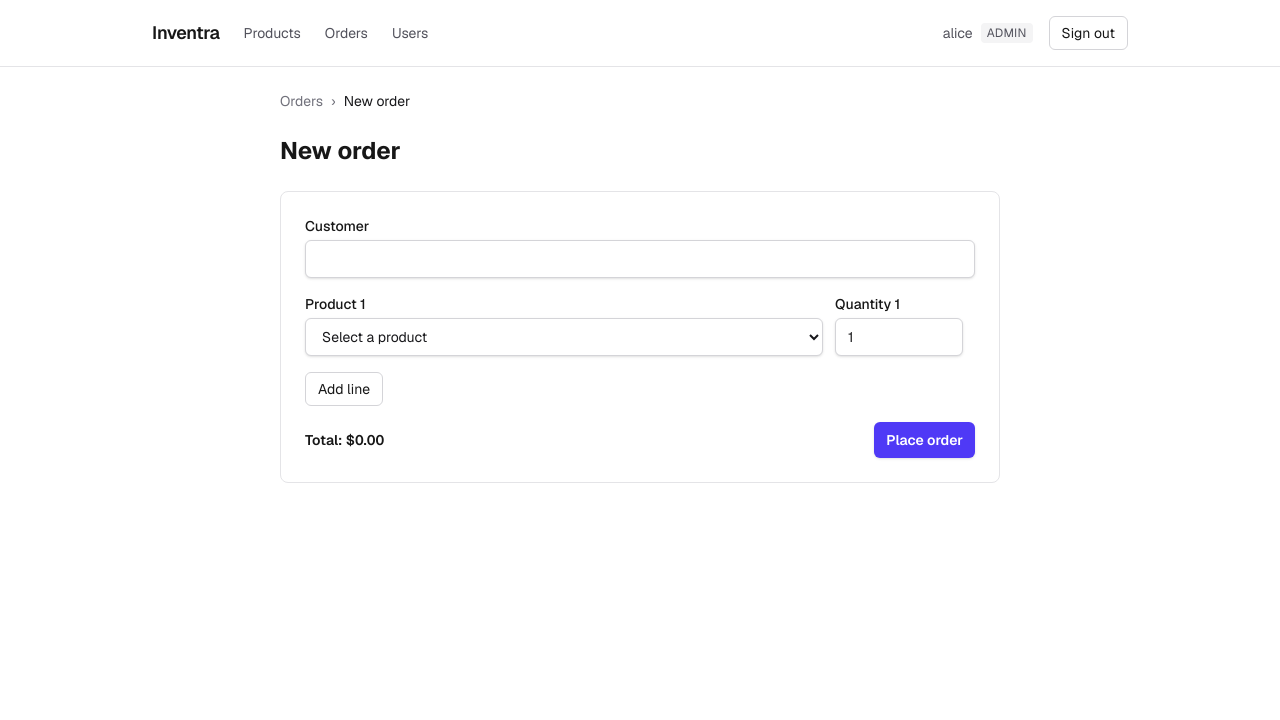
Scenario: NewOrderPage › reloads the stock when the order is refused for insufficient stock (#28)
Step 1. Type "ACME Corp" into the field labelled "Customer" → (640, 259), box [305,240,975,278]
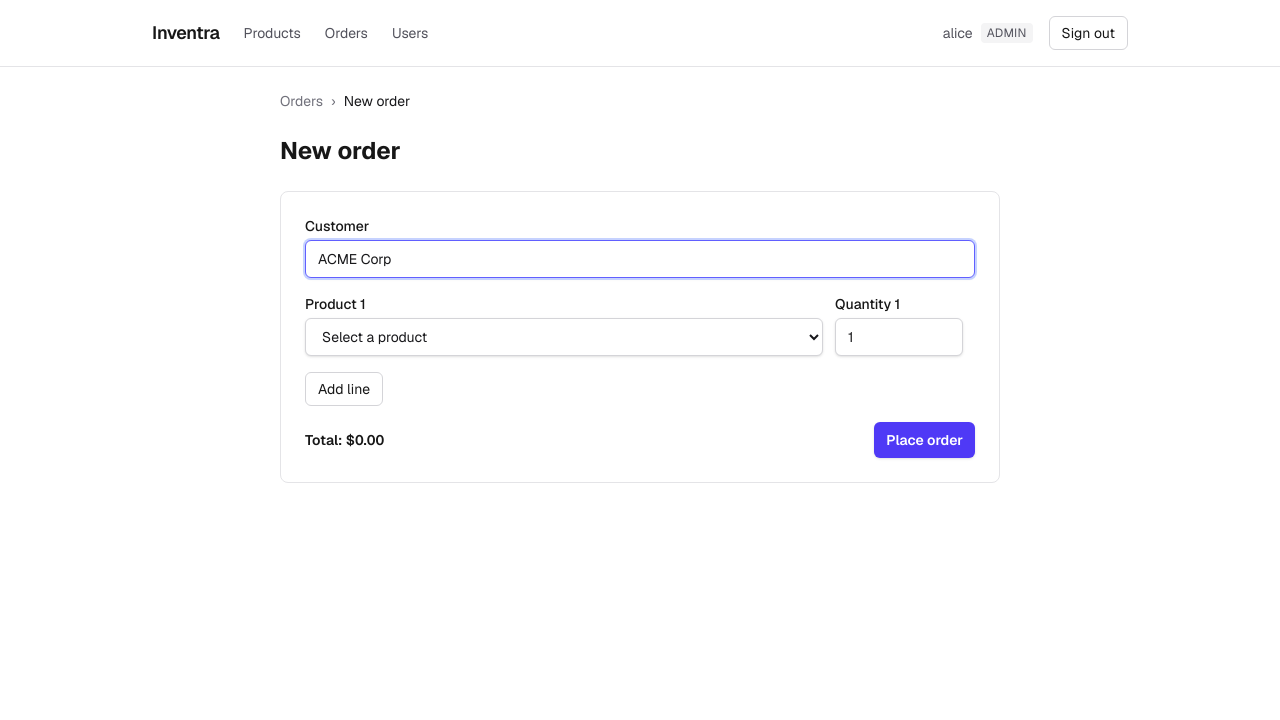
Step 2. Select "Keyboard (KB-001) · 10 in stock" in the dropdown labelled "Product 1" → (564, 337), box [305,318,823,356]
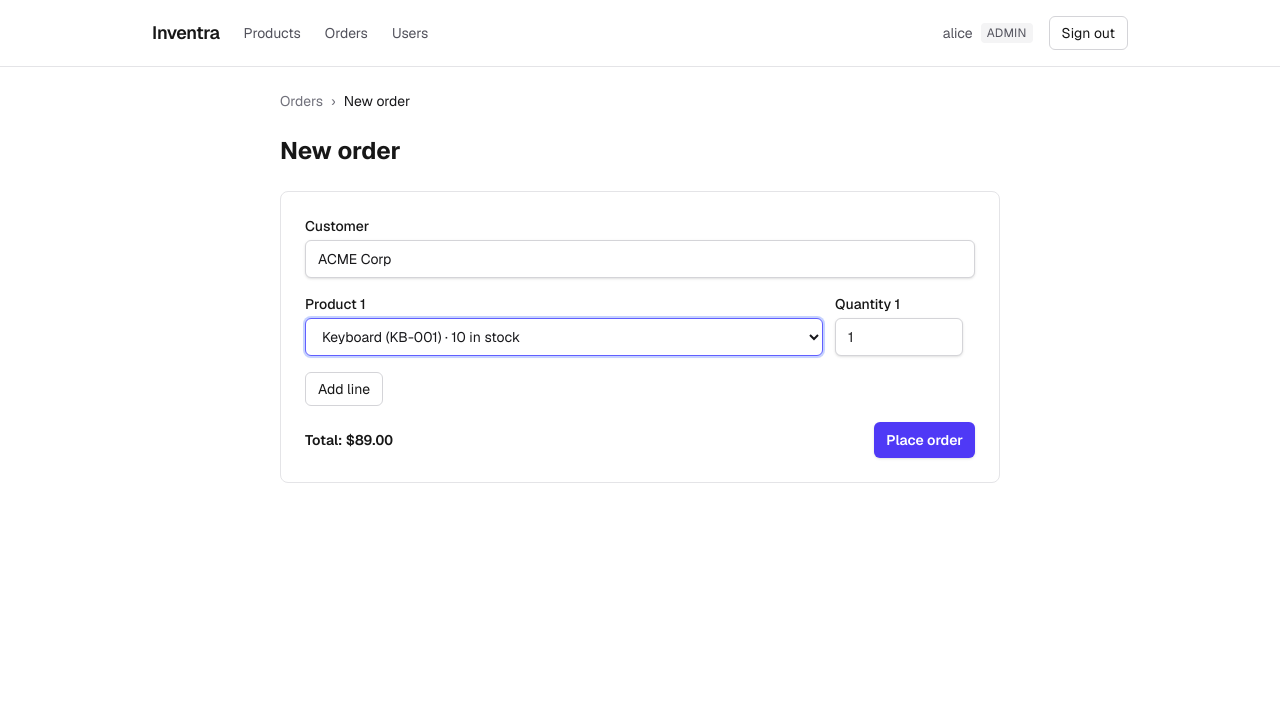
Step 3. Replace the text in the number field labelled "Quantity 1" with "2" → (899, 337), box [835,318,963,356]
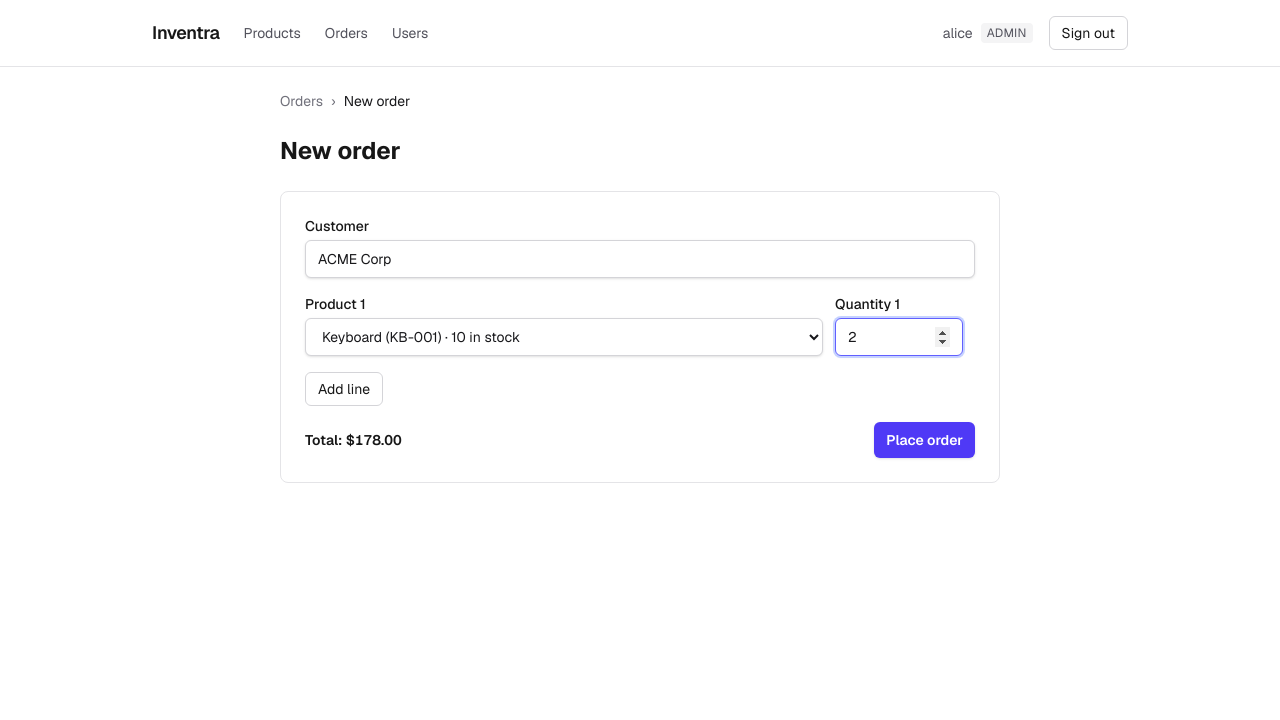
Step 4. Click the button "Place order" → (925, 440), box [874,422,975,458]
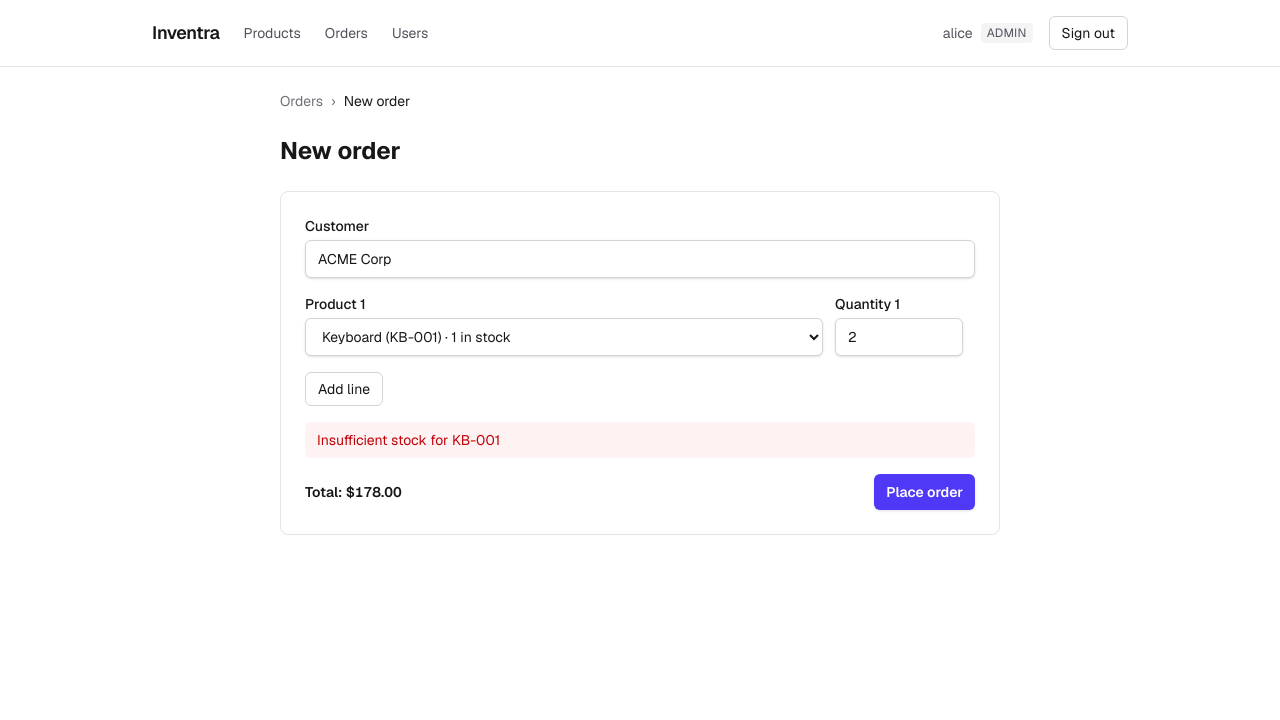
Result: the message reads "Insufficient stock for KB-001" at [317,431,500,449]
